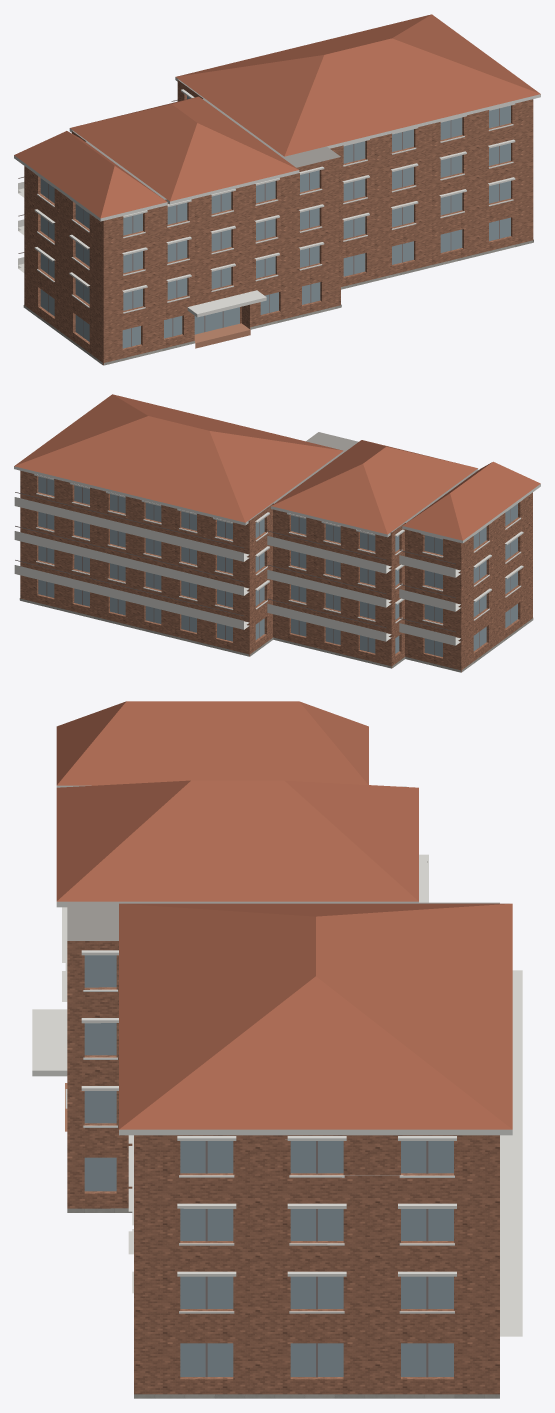
The picture shows the model from 3 angles, top to bottom: view 1: azimuth 30°, elevation 25°; view 2: azimuth 150°, elevation 25°; view 3: azimuth 270°, elevation 25°; orthographic projection. The views are drawn at different scales.
Parts seen in each view (by area): view 1: osm136187755__wall, osm136187755__roofAccent, osm136187755__glass, osm136187755__trim, osm136187755__base, osm136187755__frame, osm136187755__roof, osm136187755__canopy, osm136187755__entranceThreshold_0; view 2: osm136187755__wall, osm136187755__roofAccent, osm136187755__trim, osm136187755__glass, osm136187755__frame, osm136187755__base, osm136187755__roof; view 3: osm136187755__roofAccent, osm136187755__wall, osm136187755__glass, osm136187755__trim, osm136187755__roof, osm136187755__canopy, osm136187755__base, osm136187755__frame.
Boxes of the visible parts, bbox=[...] form: osm136187755__wall: bbox=[24, 80, 533, 365]; osm136187755__roofAccent: bbox=[14, 14, 540, 218]; osm136187755__glass: bbox=[40, 96, 510, 348]; osm136187755__trim: bbox=[14, 77, 540, 313]; osm136187755__base: bbox=[23, 239, 533, 365]; osm136187755__frame: bbox=[18, 100, 499, 346]; osm136187755__roof: bbox=[72, 79, 340, 365]; osm136187755__canopy: bbox=[187, 290, 266, 317]; osm136187755__entranceThreshold_0: bbox=[194, 323, 250, 348]; osm136187755__wall: bbox=[20, 470, 532, 672]; osm136187755__roofAccent: bbox=[14, 394, 540, 540]; osm136187755__trim: bbox=[14, 466, 540, 645]; osm136187755__glass: bbox=[38, 476, 517, 656]; osm136187755__frame: bbox=[15, 478, 510, 655]; osm136187755__base: bbox=[19, 598, 533, 672]; osm136187755__roof: bbox=[249, 432, 477, 672]; osm136187755__roofAccent: bbox=[56, 701, 512, 1129]; osm136187755__wall: bbox=[67, 941, 499, 1394]; osm136187755__glass: bbox=[84, 955, 453, 1376]; osm136187755__trim: bbox=[56, 785, 522, 1336]; osm136187755__roof: bbox=[67, 785, 499, 1175]; osm136187755__canopy: bbox=[32, 1009, 67, 1076]; osm136187755__base: bbox=[67, 1208, 499, 1398]; osm136187755__frame: bbox=[205, 861, 428, 1377].
Size of the model in its own units: 38.18 by 15.5 by 19.62.
Materials: 10 (2 with a texture image).
